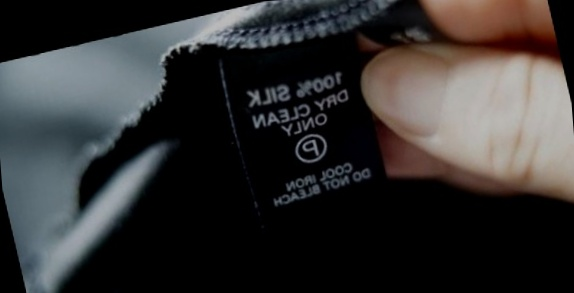dry_clean_any_solvent_except_trichloroethylene: (290, 129, 330, 167)
